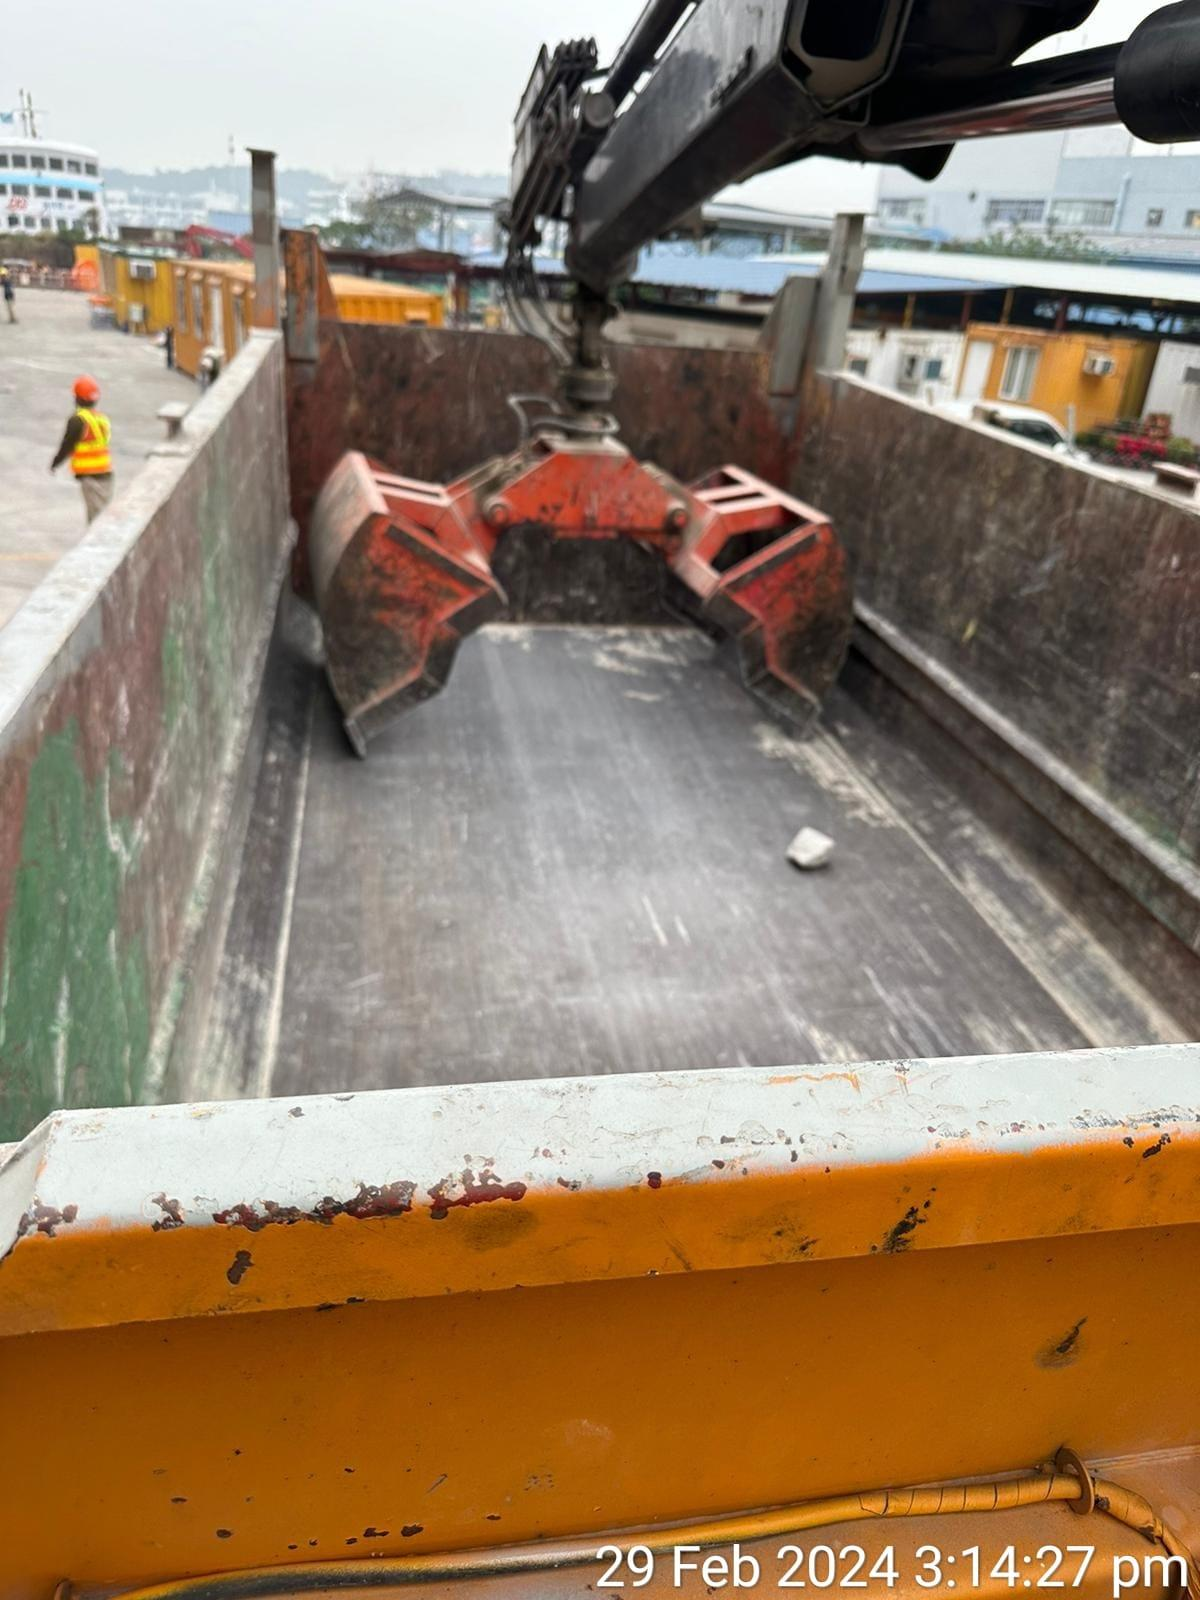nothing: (282, 625, 1085, 1102)
